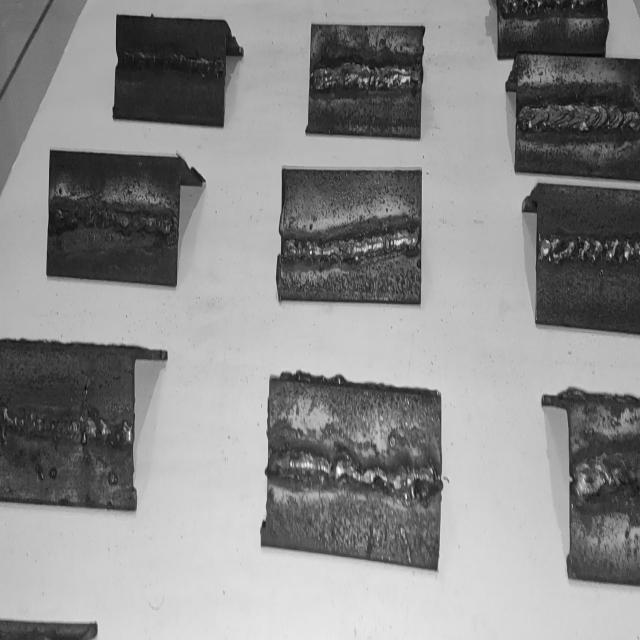Defect: (49, 204, 172, 239), (537, 231, 640, 271), (0, 406, 72, 452), (498, 0, 606, 18), (612, 446, 640, 510), (102, 403, 128, 458)
Welding Line: (269, 446, 442, 503), (282, 224, 420, 266), (0, 408, 134, 450), (50, 204, 177, 244), (517, 100, 640, 134), (312, 62, 420, 96), (116, 49, 226, 81), (542, 235, 640, 268), (576, 461, 640, 502)
Workpiece: (264, 376, 442, 572), (0, 342, 138, 507), (279, 163, 422, 304), (44, 153, 183, 284), (512, 49, 640, 183), (534, 180, 640, 333), (304, 24, 426, 138), (110, 13, 230, 128), (569, 402, 640, 588), (496, 0, 608, 63)
